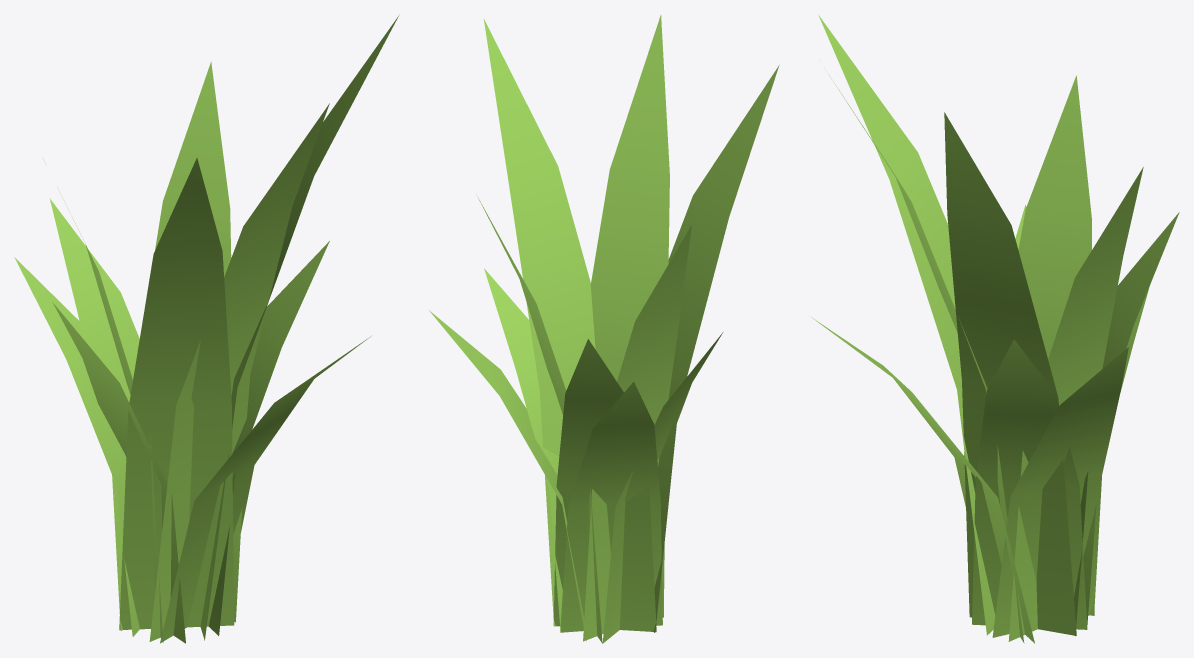
Rendered from prop_grass_tuft.glb.
3 renders of one model, left to right at view 1: azimuth 30°, elevation 25°; view 2: azimuth 150°, elevation 25°; view 3: azimuth 270°, elevation 25°, orthographic. The views are drawn at different scales.
Visible parts, largest first — view 1: prop_grass_tuft; view 2: prop_grass_tuft; view 3: prop_grass_tuft.
Boxes of the visible parts, <box> form: prop_grass_tuft: <box>14,14,399,643</box>; prop_grass_tuft: <box>429,15,779,643</box>; prop_grass_tuft: <box>811,15,1179,643</box>.
Bounding box in the file's own units: 0.1536 × 0.2826 × 0.16.
